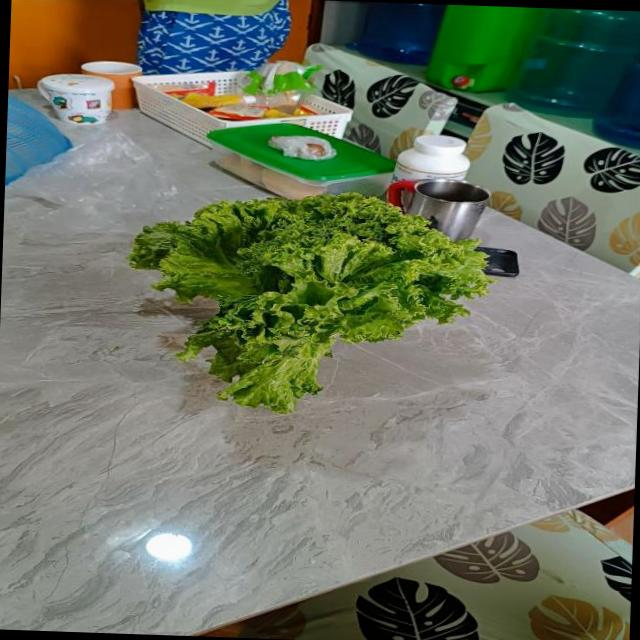Lettuce-Ready-to-Harvest: (129, 194, 490, 412)
